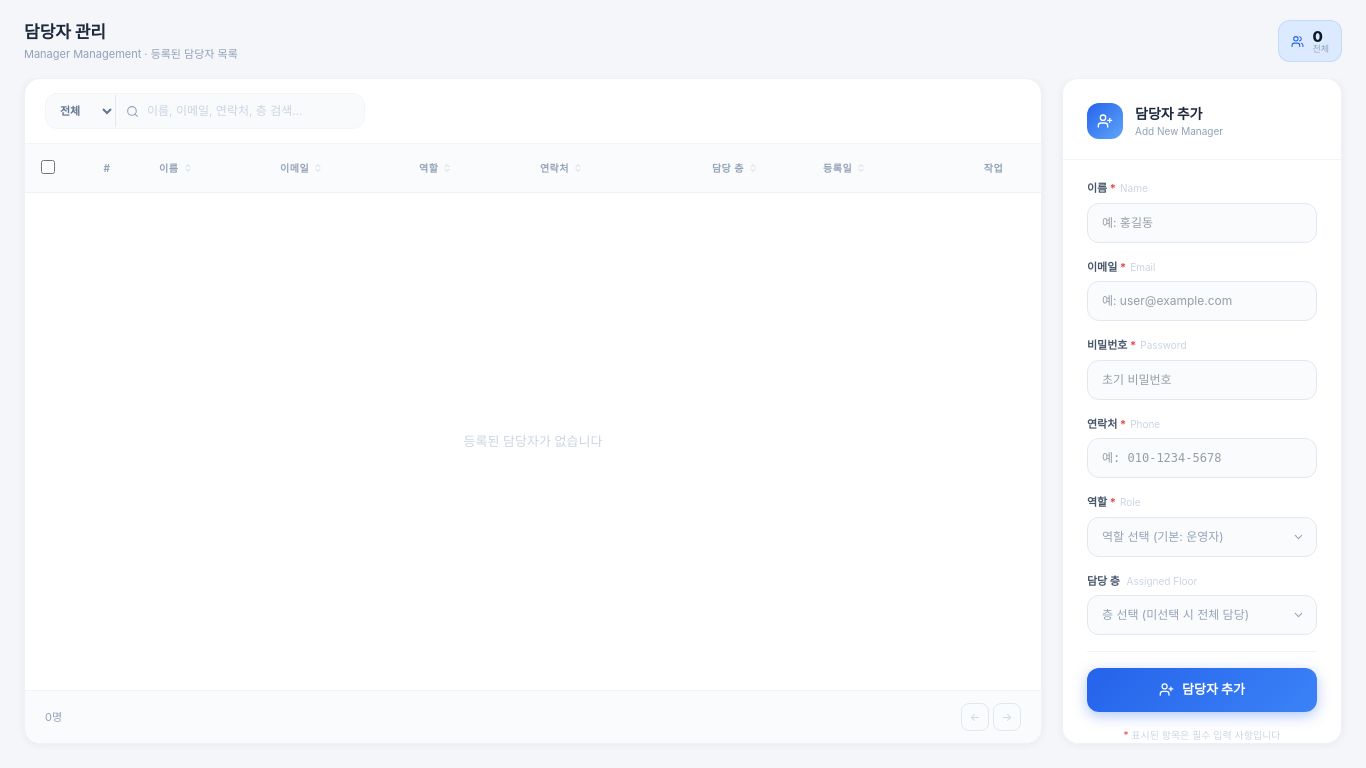
Test case: ManagersPage › adds a new admin and shows a success message
Type "이영희" into the field with placeholder "예: 홍길동".
click(1202, 222); type("이영희")  # box [1087,202,1317,242]
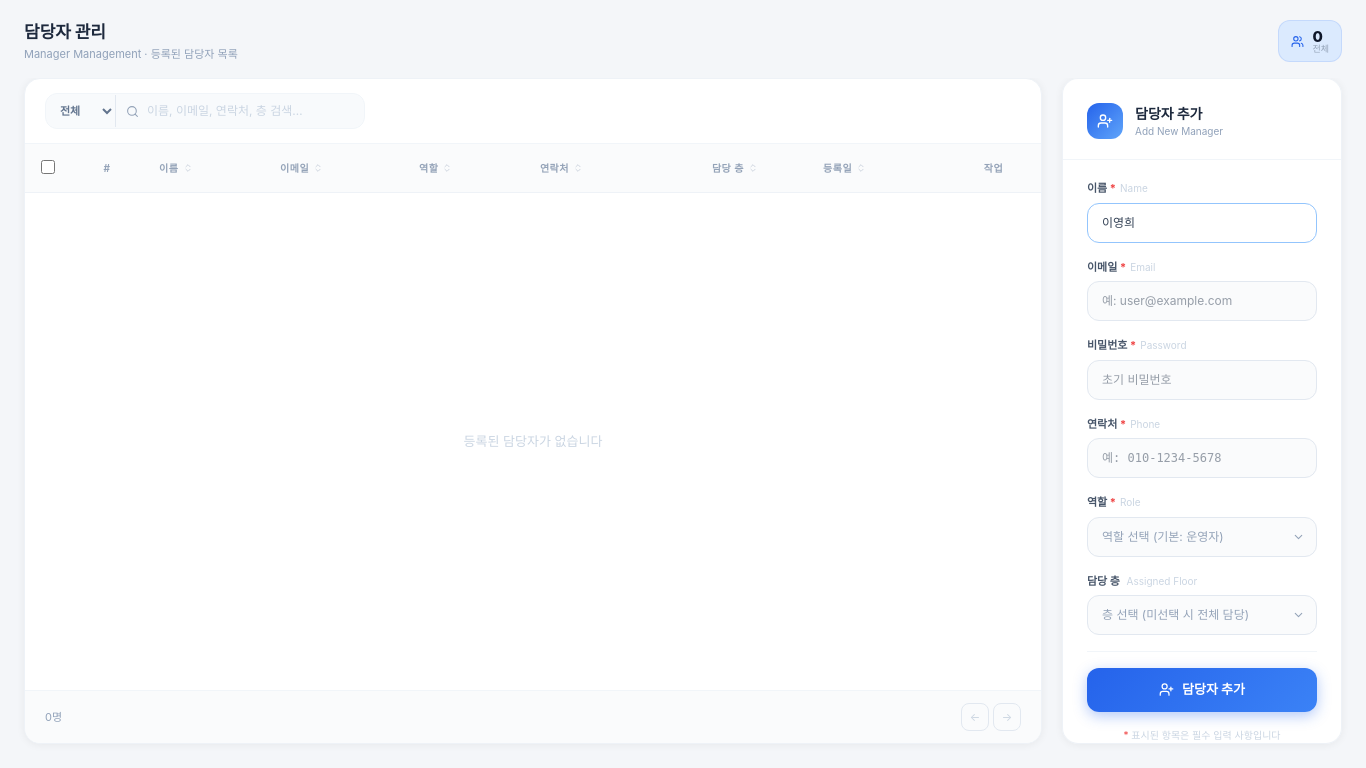
Type "lee@example.com" into the field with placeholder "예: user@example.com".
click(1202, 301); type("lee@example.com")  # box [1087,281,1317,321]
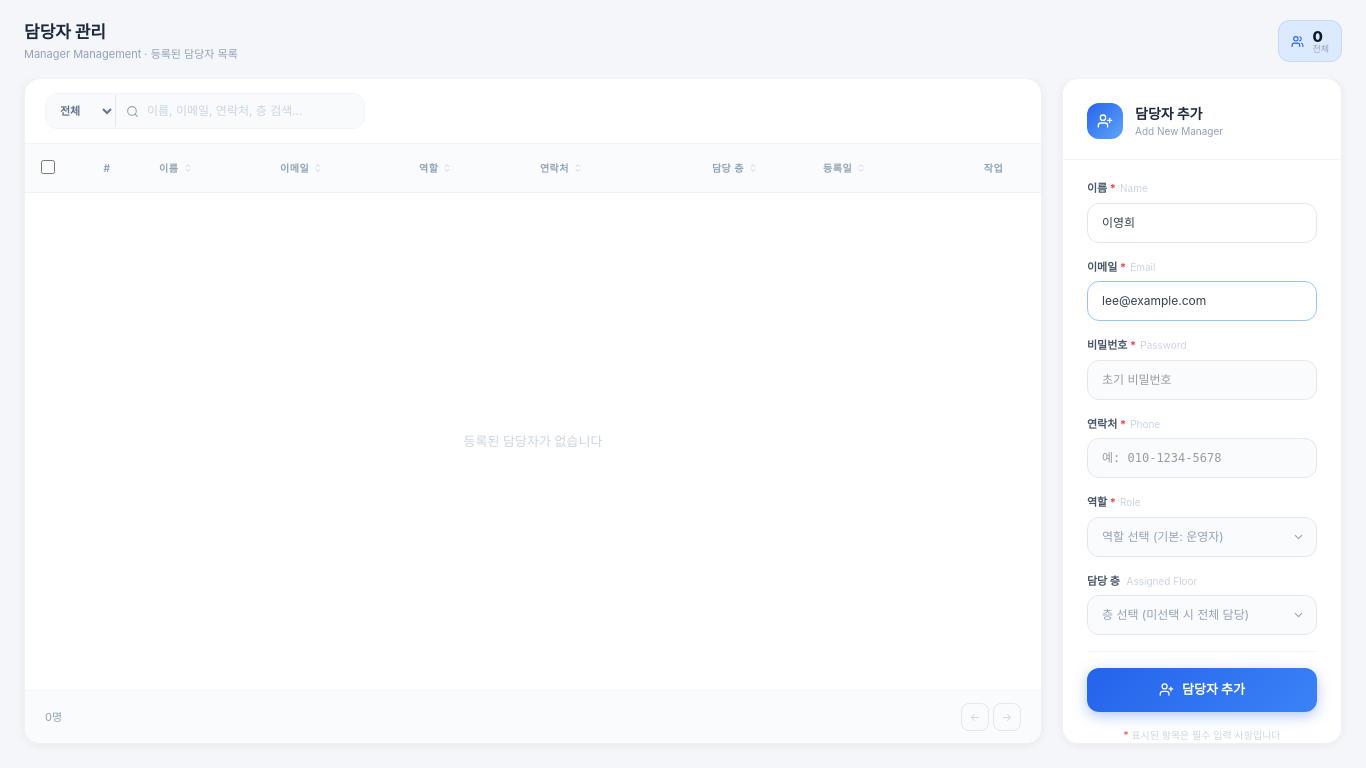
Type "TestPw!2026" into the password field with placeholder "초기 비밀번호".
click(1202, 380); type("TestPw!2026")  # box [1087,360,1317,400]
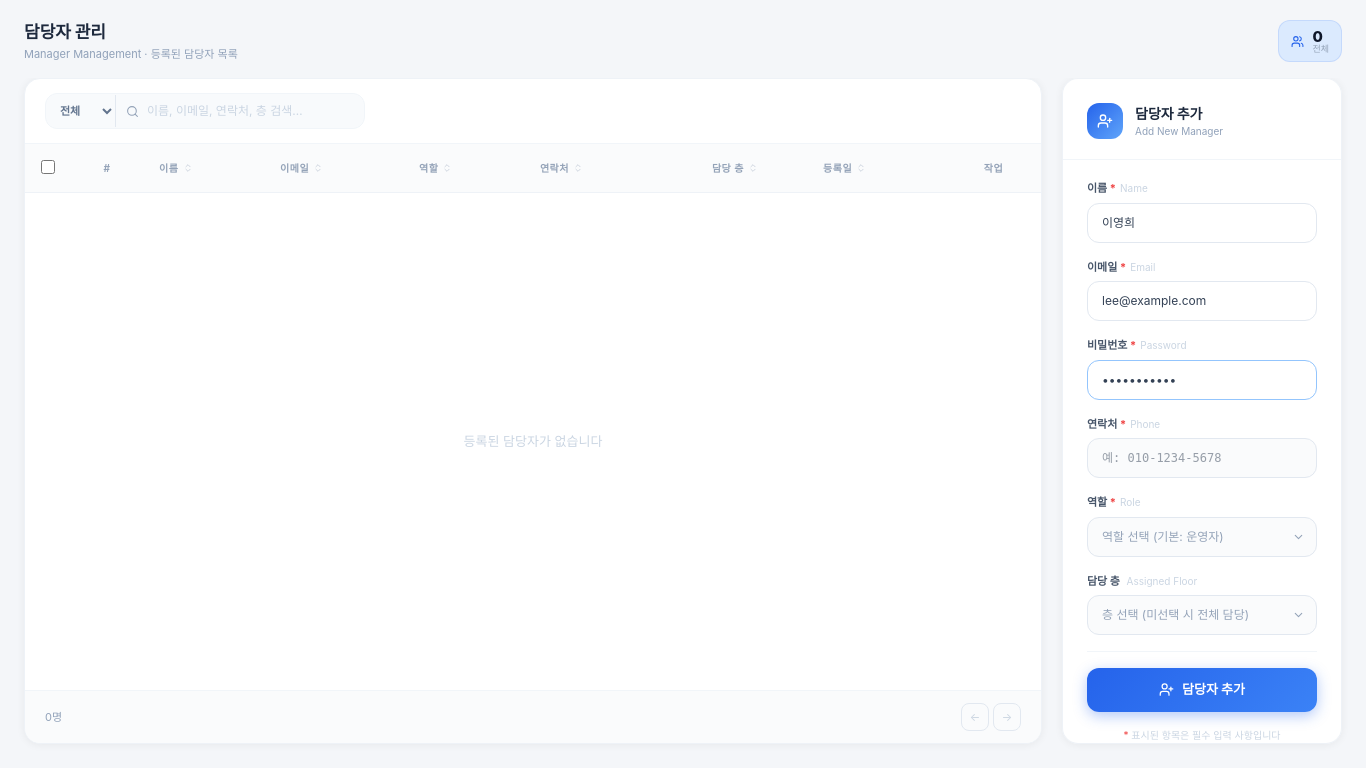
Type "010-2222-3333" into the field with placeholder "예: 010-1234-5678".
click(1202, 458); type("010-2222-3333")  # box [1087,438,1317,478]
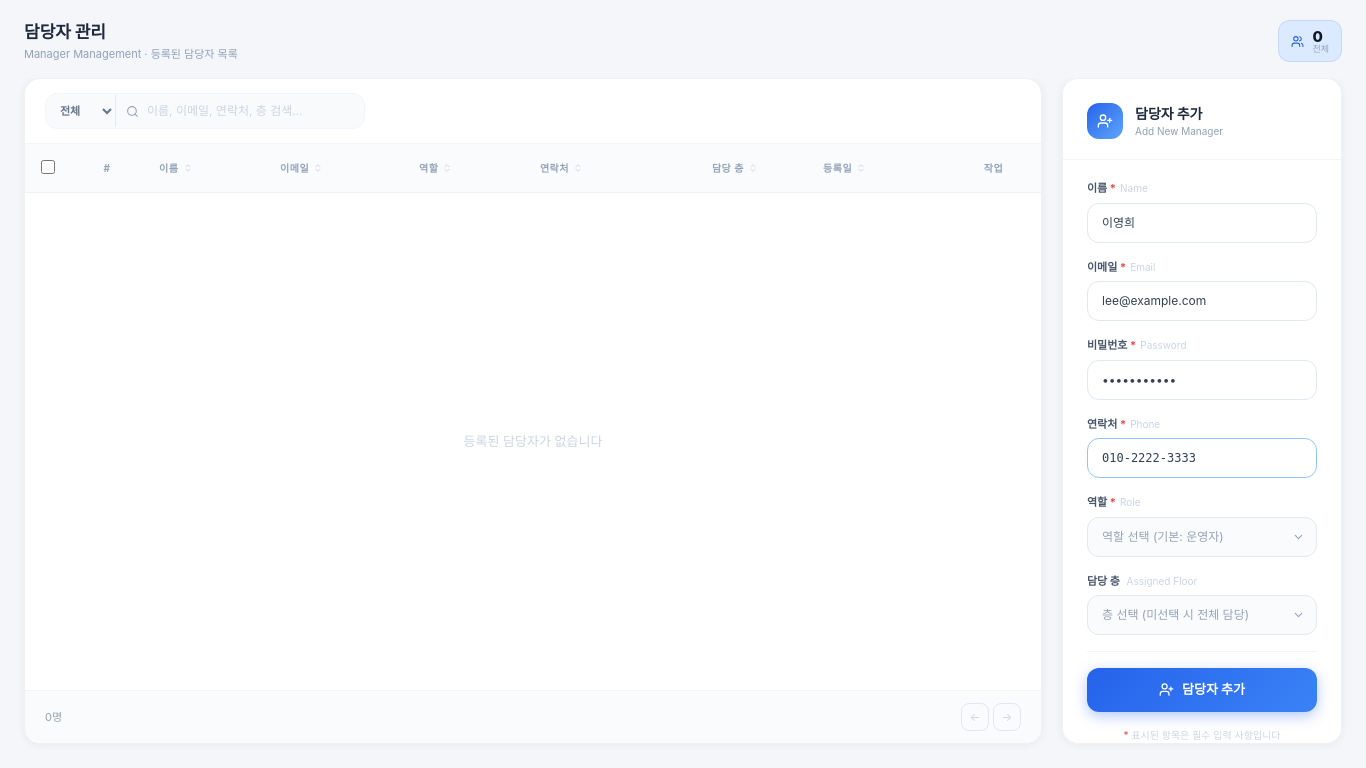
Click the button "담당자 추가".
click(1202, 690)  # box [1087,668,1317,712]
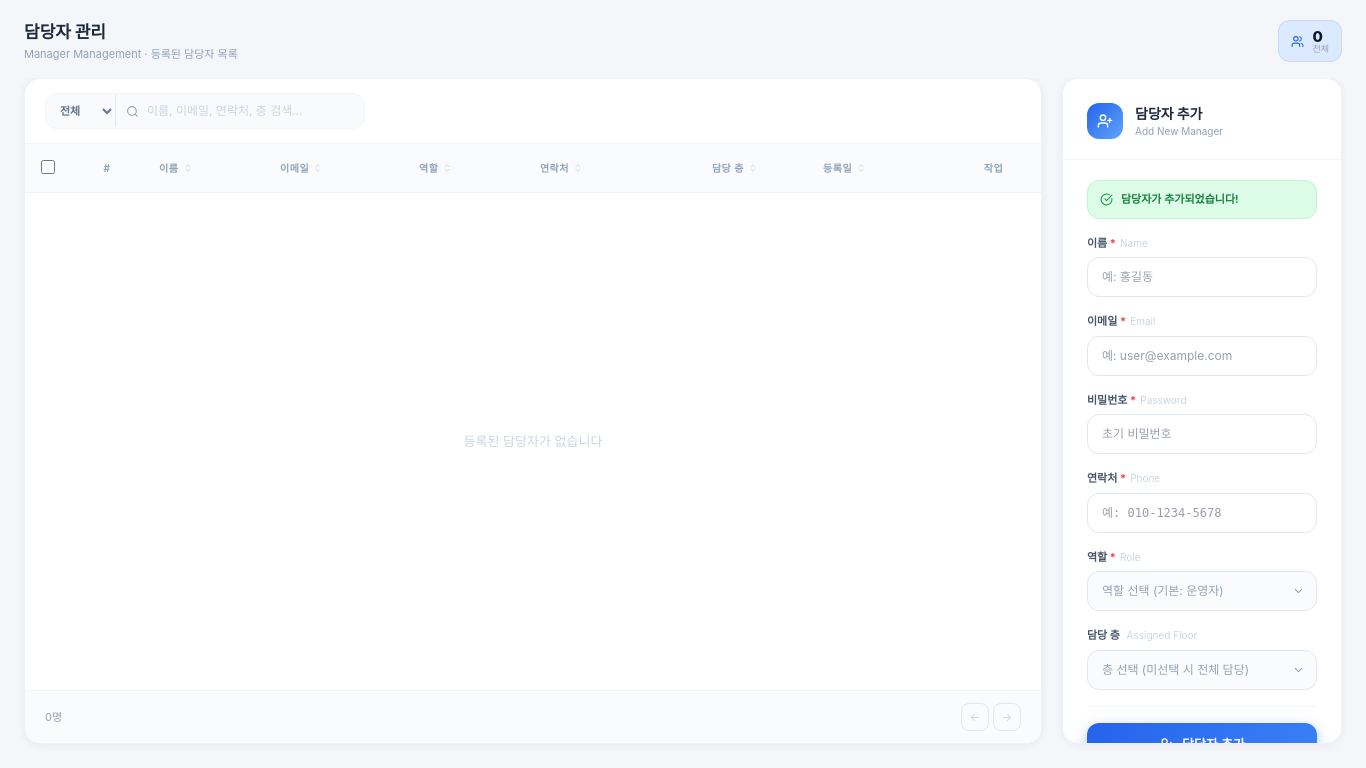
Now the text "담당자가 추가되었습니다!" is shown, box [1121,191,1239,208]
